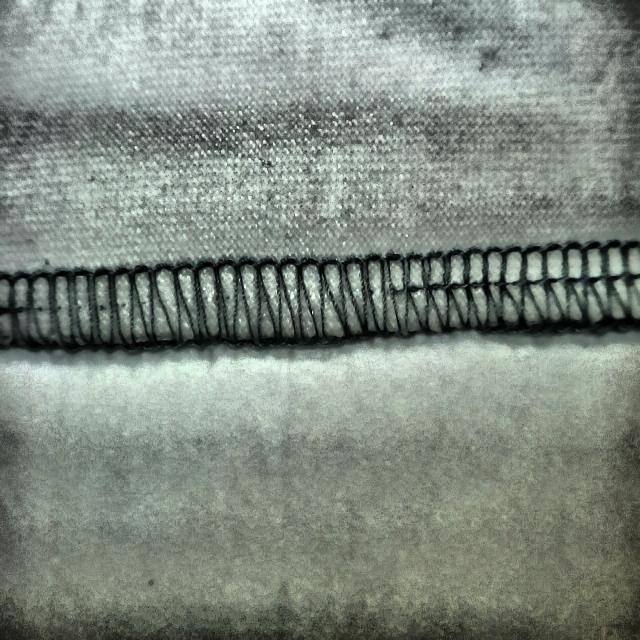gray stitch: (218, 244, 640, 348)
